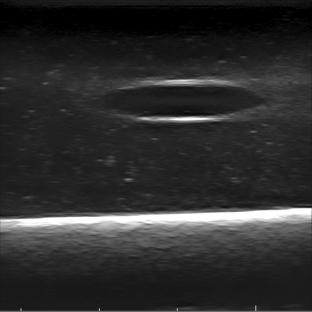vessel: (102, 79, 267, 125)
